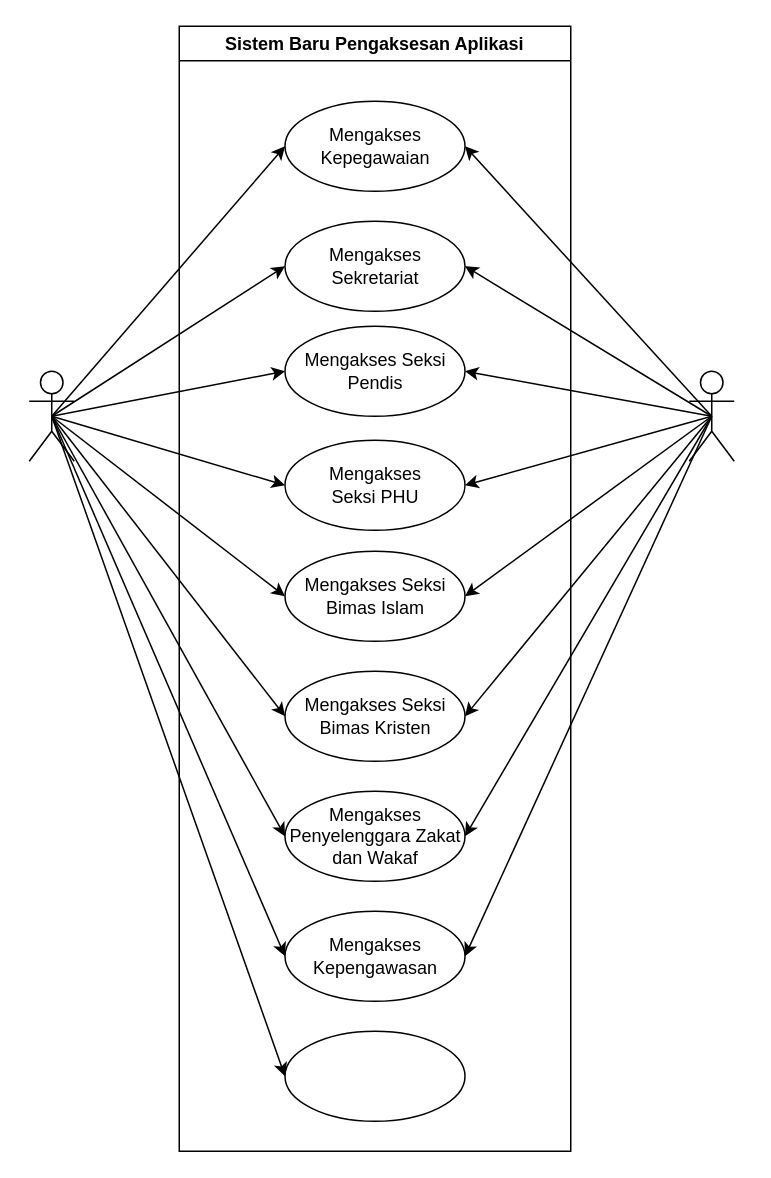
The diagram is 771 pixels wide and 1178 high, and some of its shapes have lost their labels. The shapes that lost their labels are listed below. From the top down, each one's centre as x and y in pixels, then its label:
(x=51, y=415): Admin
(x=711, y=415): Pegawai
(x=374, y=1075): Mengelola Akun
